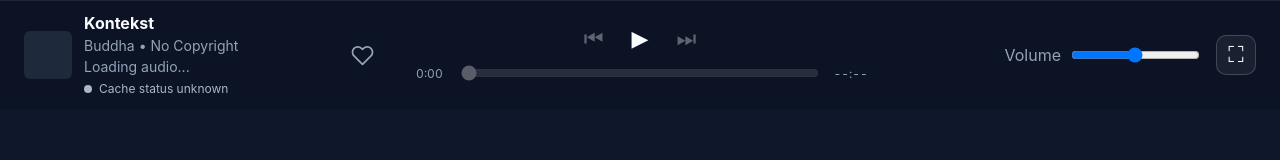
Test case: PlaybackBar Favorites integration › blocks duplicate clicks while a write is pending
Click the button named "Add Kontekst to Favorites". click: [363, 55]
box: [344, 36, 382, 74]
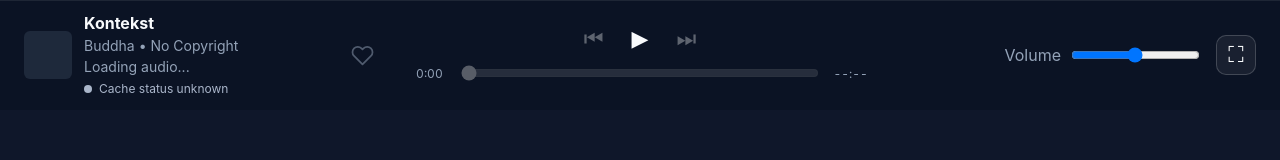
Click the button named "Add Kontekst to Favorites". click: [363, 55]
box: [344, 36, 382, 74]
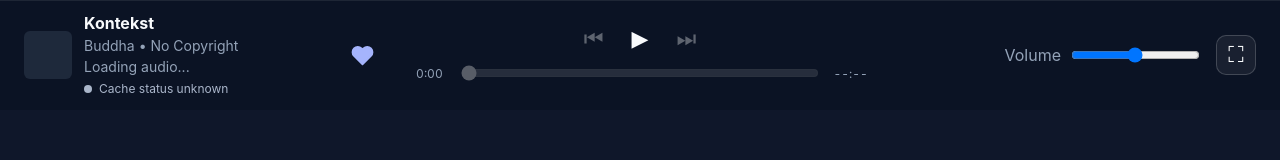
Check: the button named "Unfavorite Kontekst" is enabled, box [344, 36, 382, 74]
